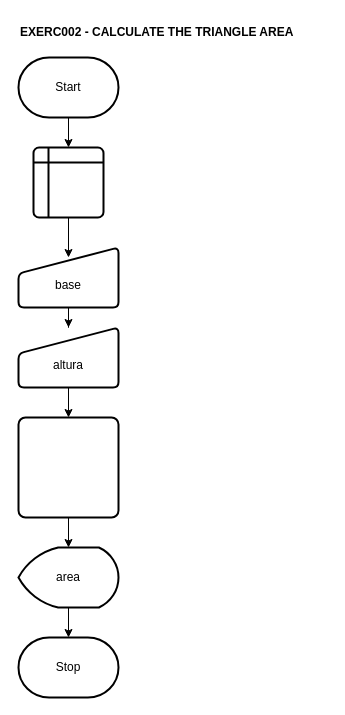
This 345x715 diagram has some shape labels left out. Each missing label, with the centre of its shape:
"area = (base * altura) / 2" belongs at [68,467].
"base altura area" belongs at [68,182].
